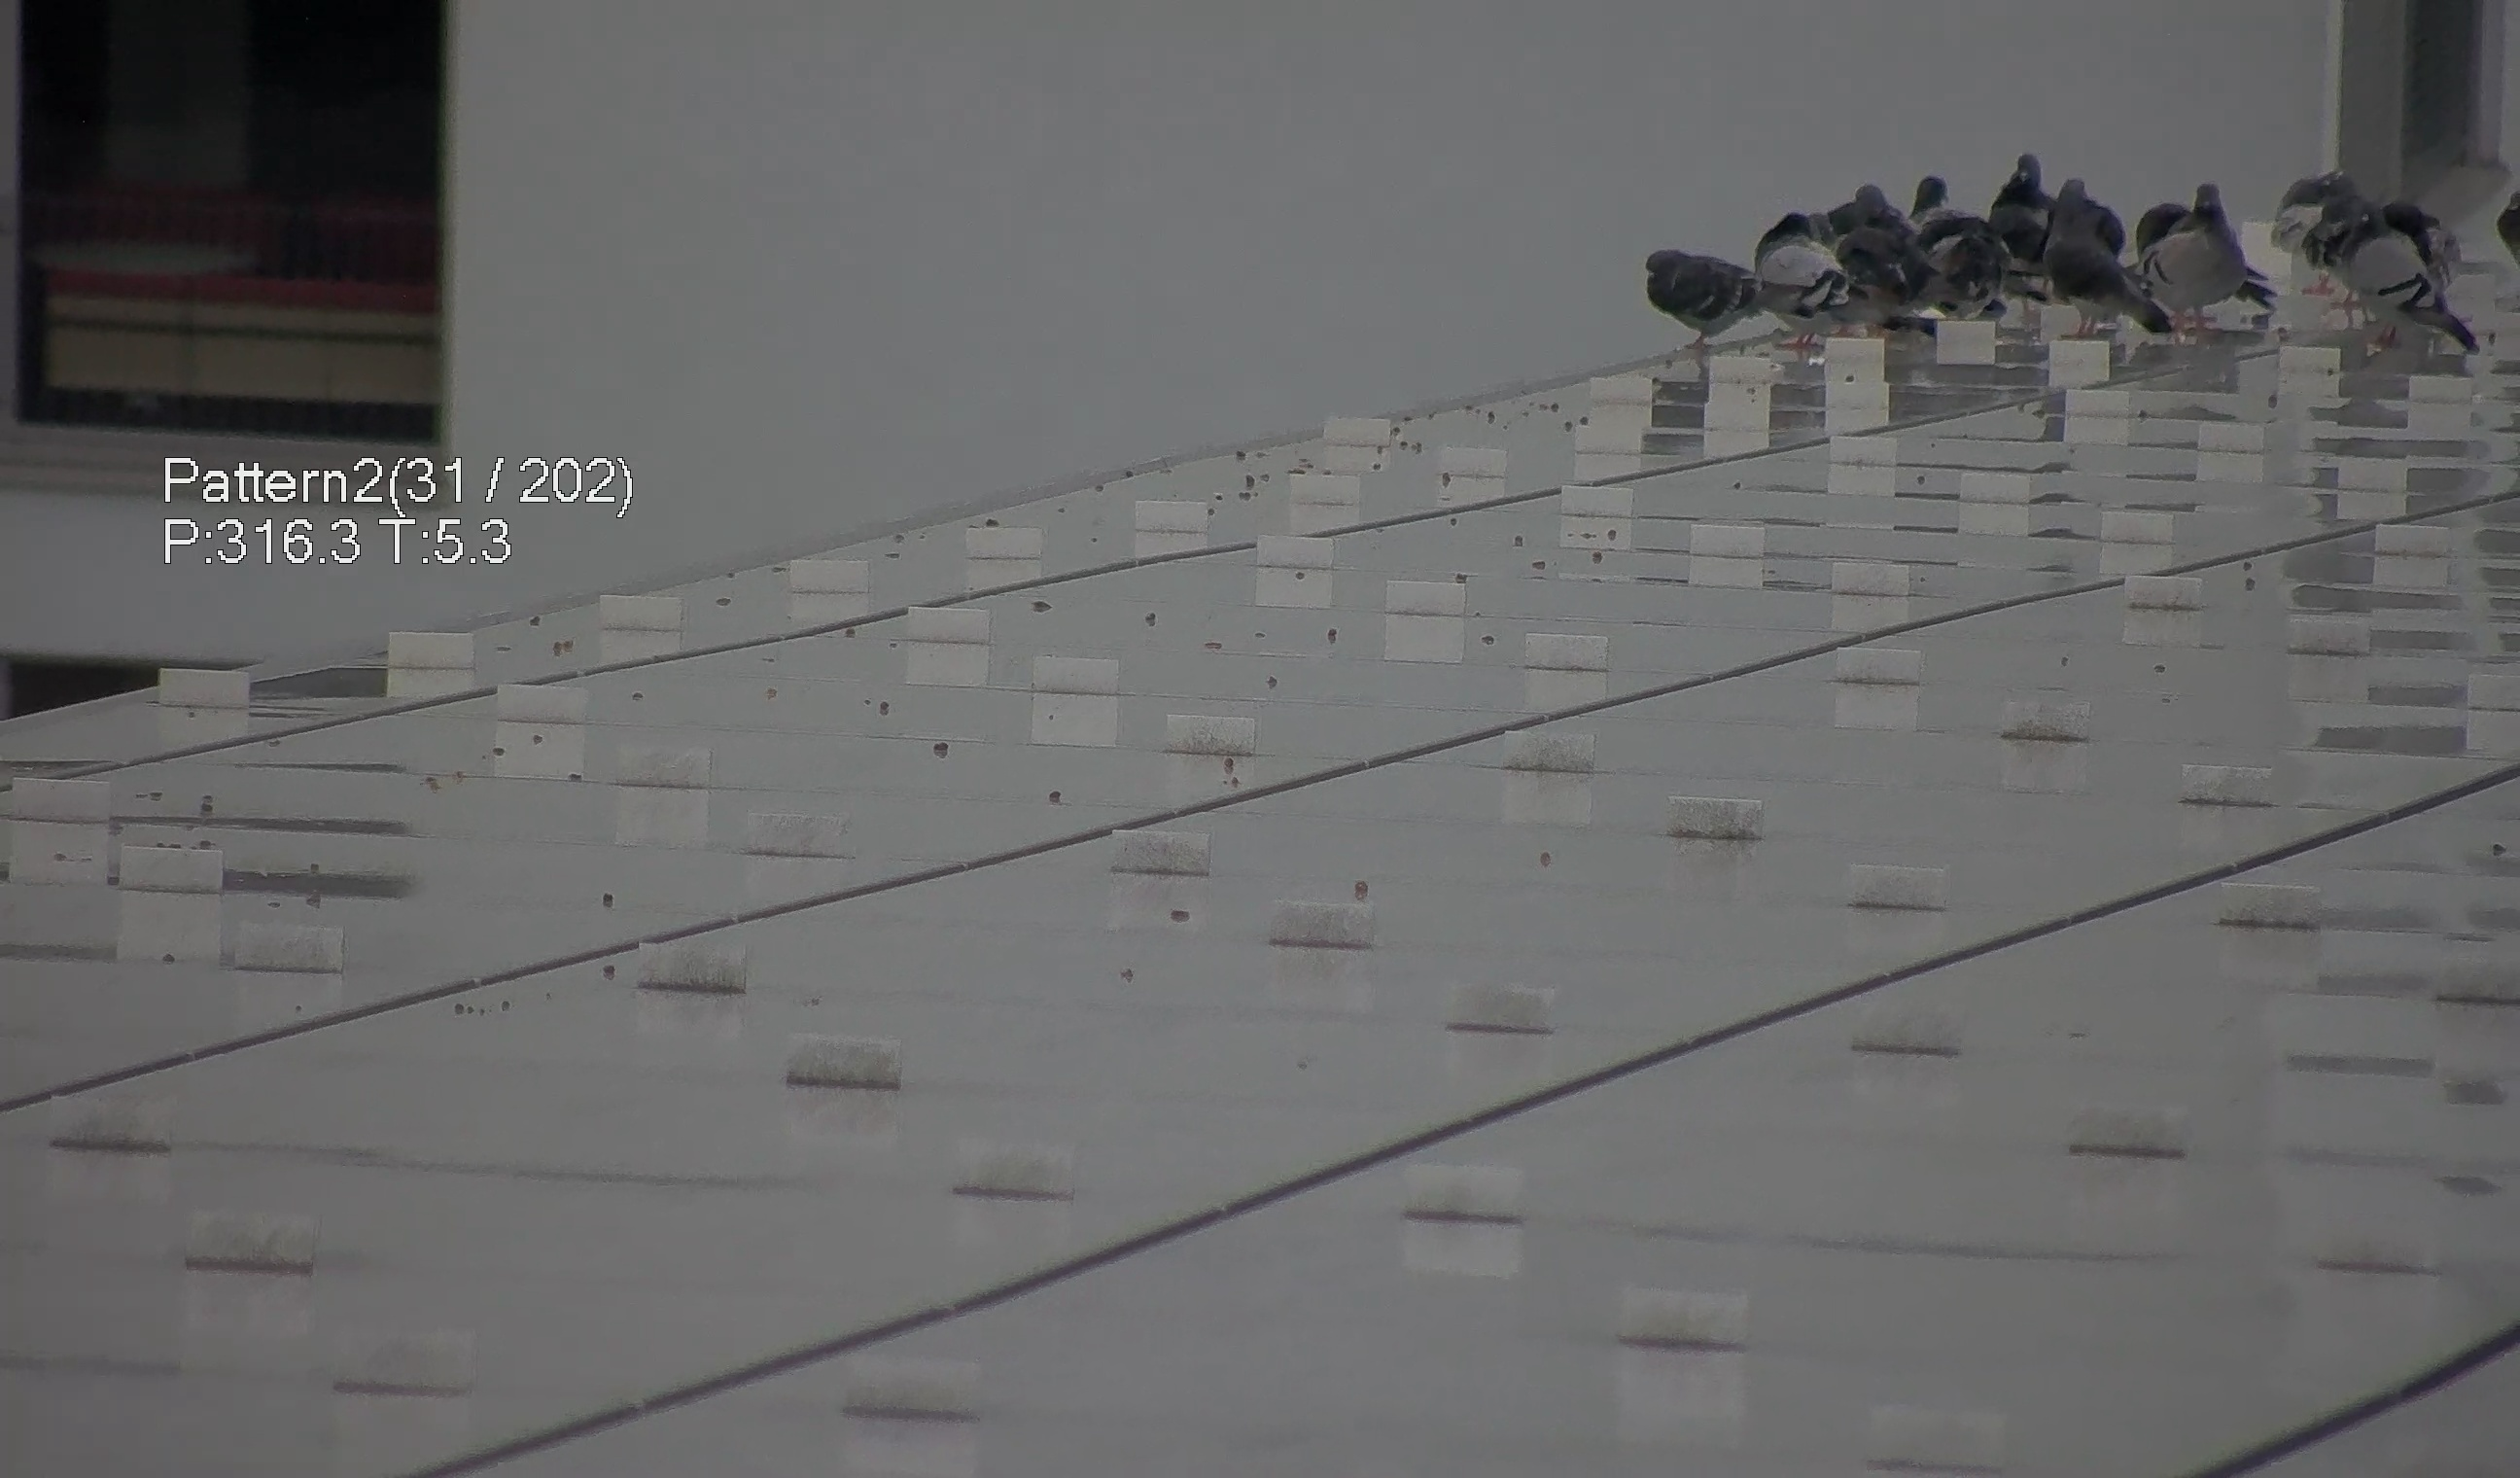Pigeon: (1743, 192, 1892, 364), (2339, 201, 2473, 371), (2142, 178, 2291, 327), (2035, 174, 2175, 331), (1642, 232, 1776, 338), (2277, 165, 2372, 278), (1824, 162, 1908, 274), (1996, 139, 2054, 290), (1901, 178, 1964, 234)
